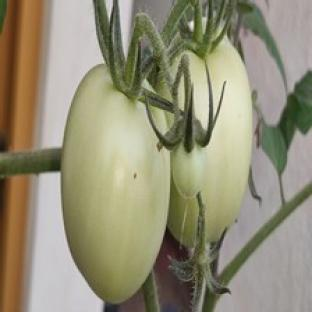Tomato: (62, 66, 169, 303), (187, 38, 252, 242), (172, 144, 206, 199)
